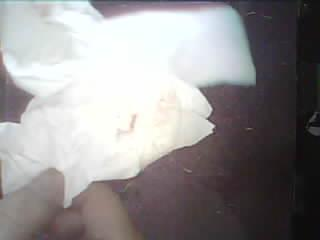paper: (0, 1, 255, 206)
